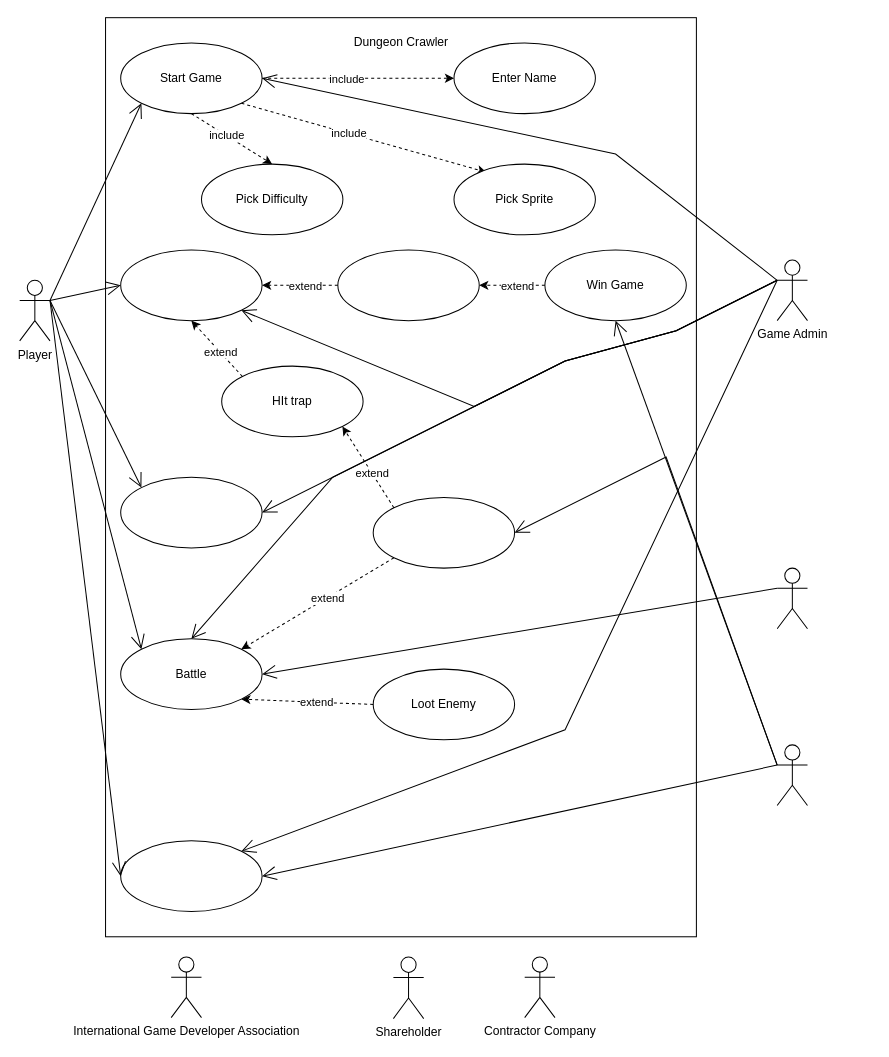
Some shapes in this 889 by 1057 pixel diagram are drawn without their labels. The shapes that lost their labels are listed below. From the top down, each one's box as (x1, y1, x2, y2) in pixels, then its label:
(120, 249, 262, 321): Move
(337, 249, 479, 321): Enter New Room
(120, 476, 262, 548): Pickup Item
(372, 496, 515, 568): Loose Game
(776, 567, 807, 629): Enemy
(776, 744, 807, 805): Third-Party Database Service
(120, 840, 262, 912): Exit Game
